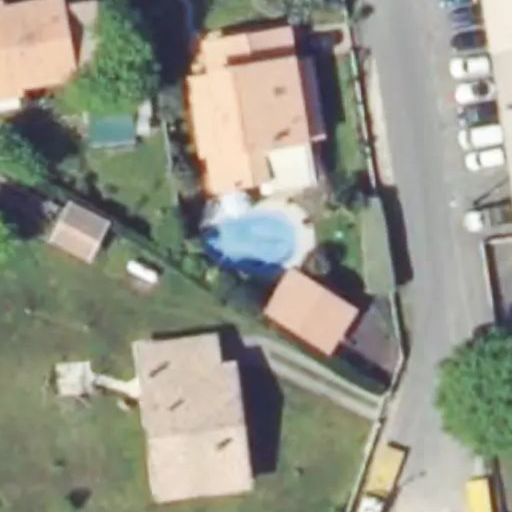pool: (199, 213, 295, 271)
